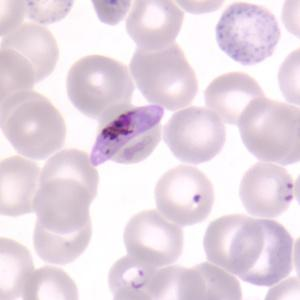Infected: (89, 103, 166, 165), (238, 163, 296, 219), (107, 256, 167, 300)
Uninfected: (232, 216, 293, 287), (67, 55, 134, 113), (239, 96, 295, 163), (165, 106, 228, 165), (156, 166, 216, 226), (203, 213, 261, 274), (2, 23, 60, 83), (202, 72, 266, 125), (42, 147, 100, 203), (8, 101, 66, 157), (126, 0, 188, 52), (34, 177, 89, 233), (126, 211, 184, 263), (139, 60, 198, 109), (0, 156, 46, 218), (32, 218, 90, 267), (0, 236, 36, 300)
